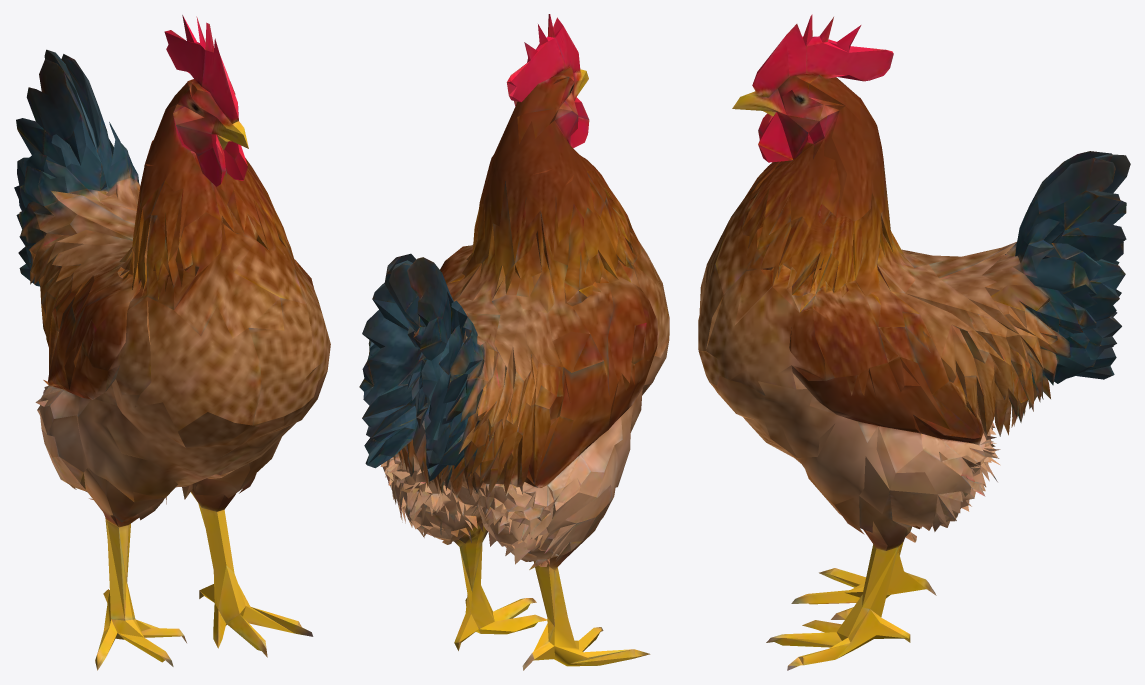
Rendered from hen.glb.
The picture shows the model from 3 angles, left to right: view 1: azimuth 30°, elevation 25°; view 2: azimuth 150°, elevation 25°; view 3: azimuth 270°, elevation 25°; orthographic projection. The views are drawn at different scales.
Bounding box in the file's own units: 0.6875 × 1.9 × 1.22.
Materials: 1 (1 with a texture image).
